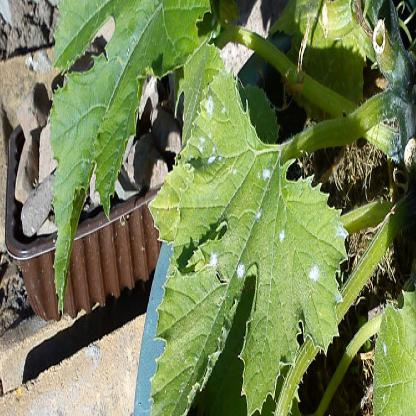Squash Powdery mildew leaf: (153, 76, 353, 415)
